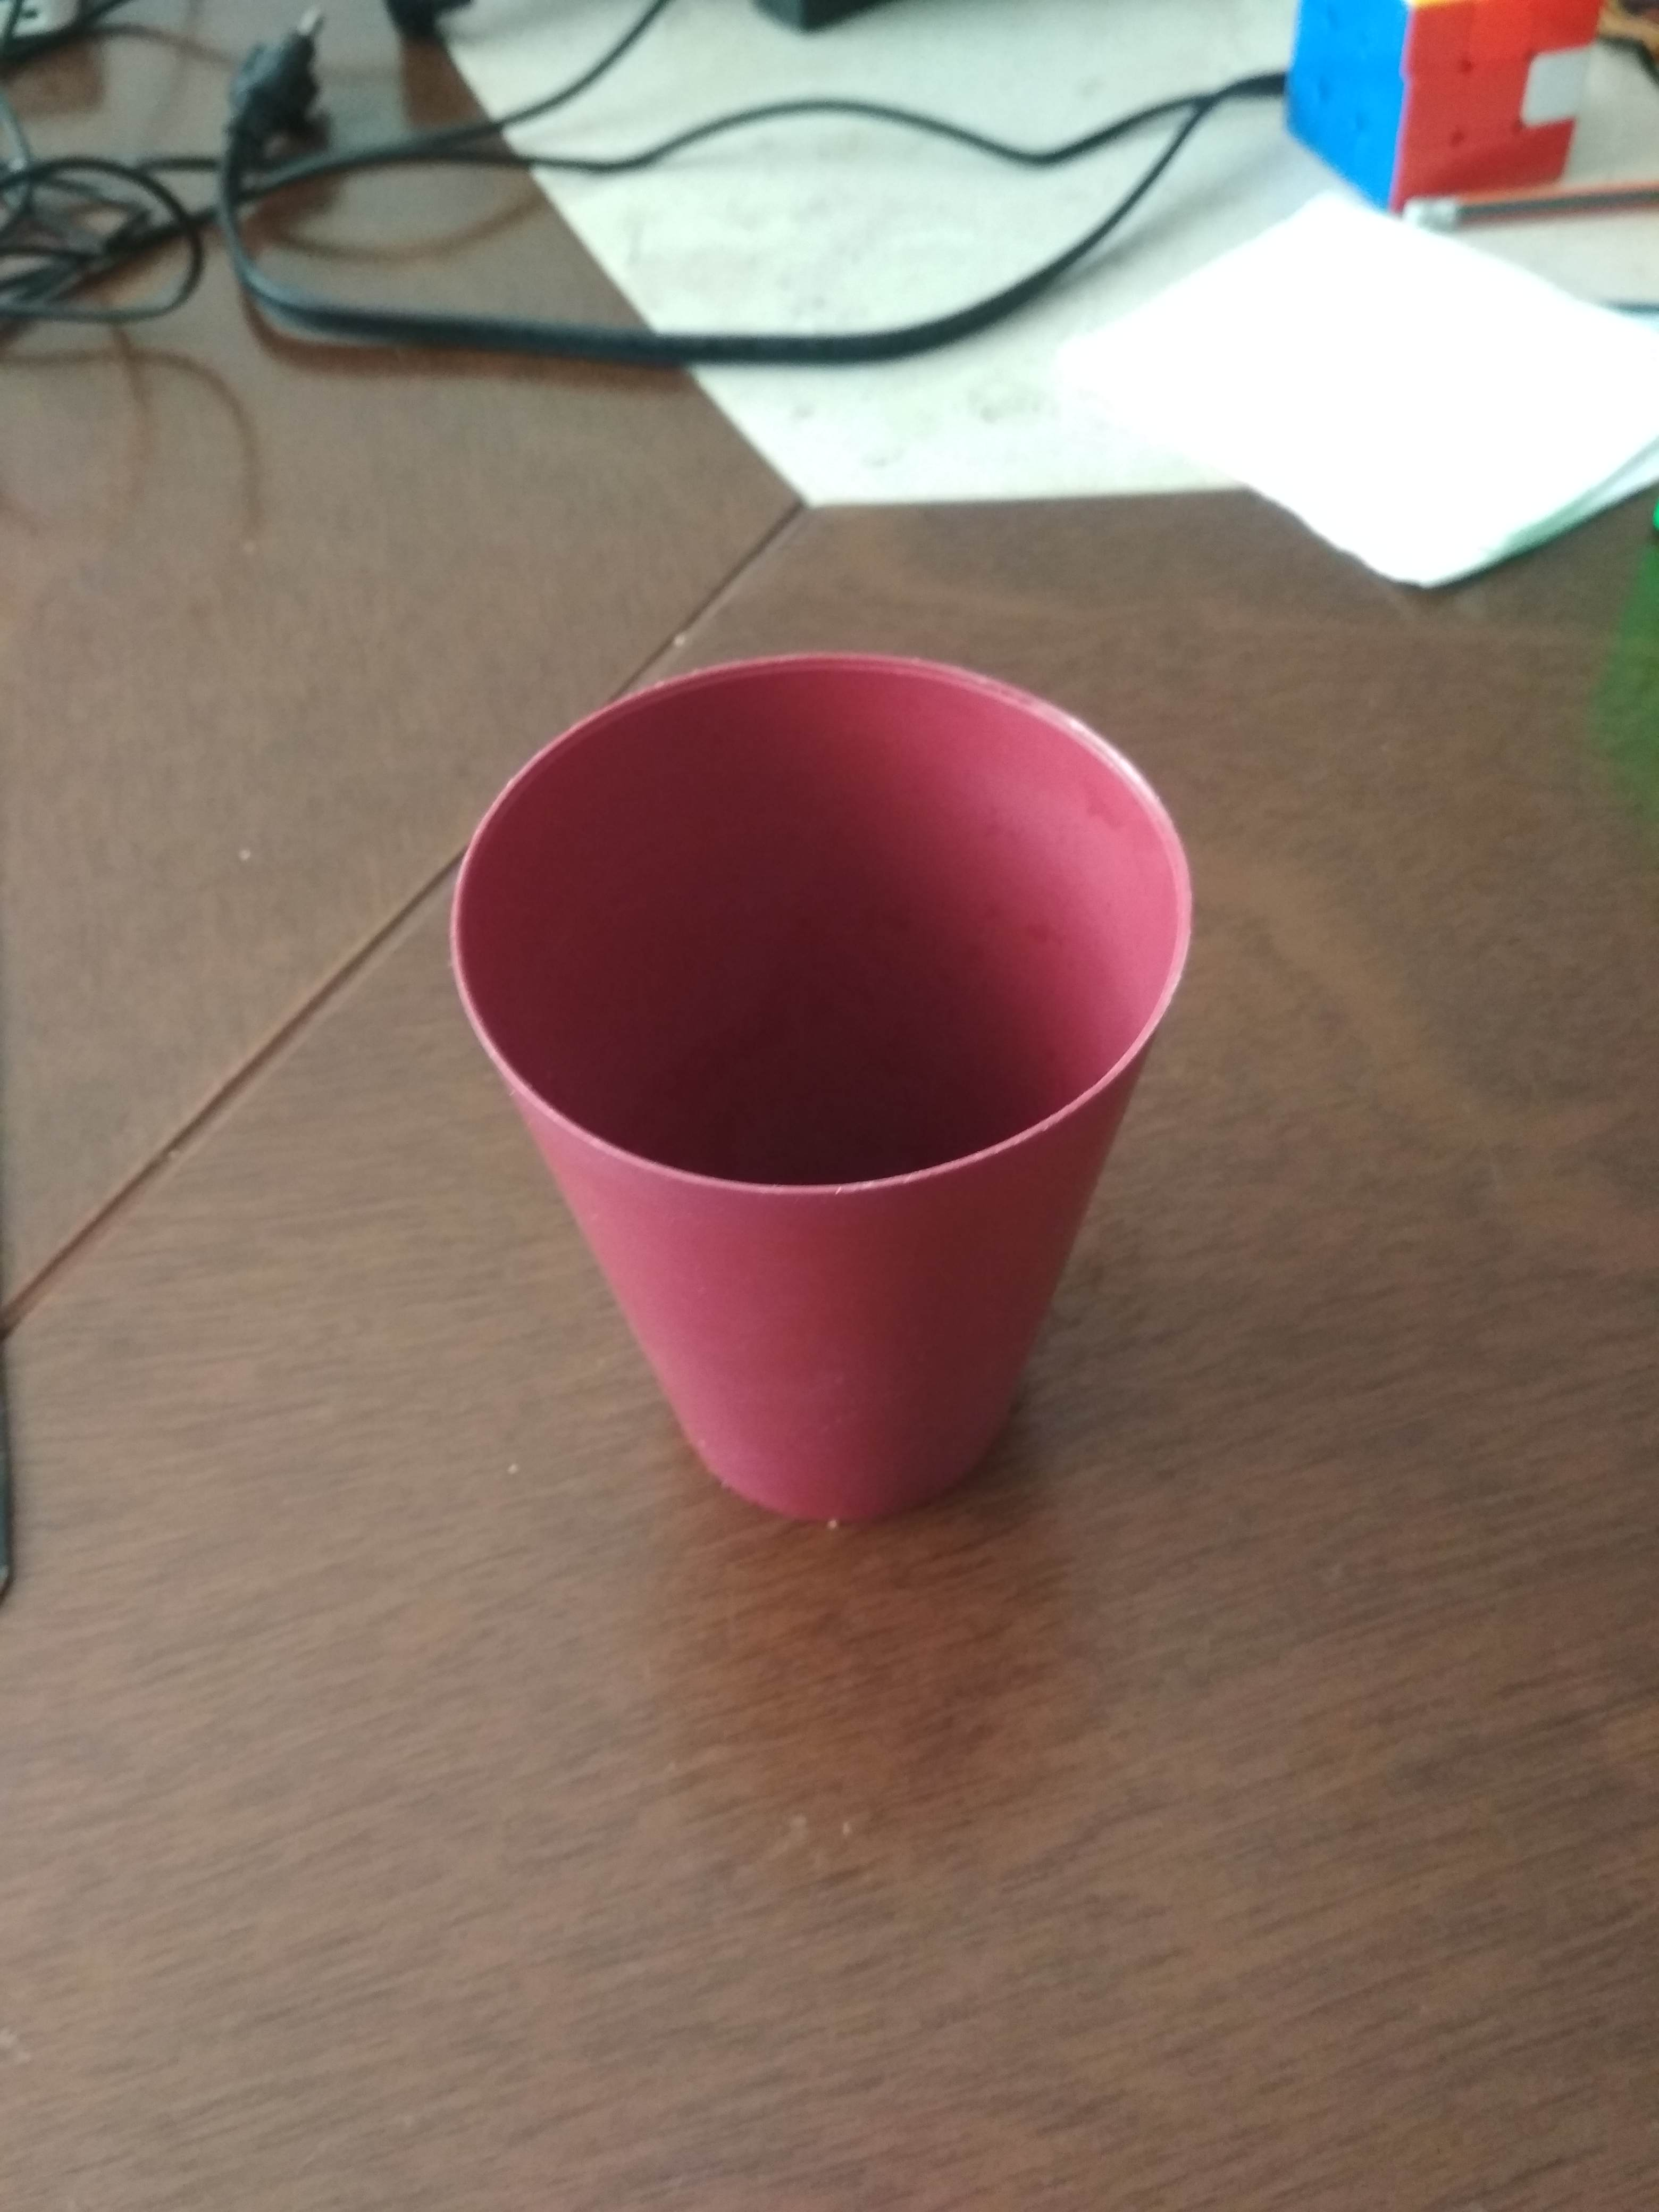rubik_cube: (1258, 0, 1615, 239)
spoon: (423, 620, 1216, 1561)
